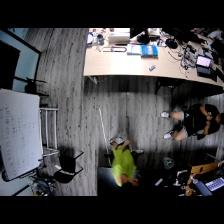normal: (161, 102, 224, 142), (109, 134, 139, 192)
